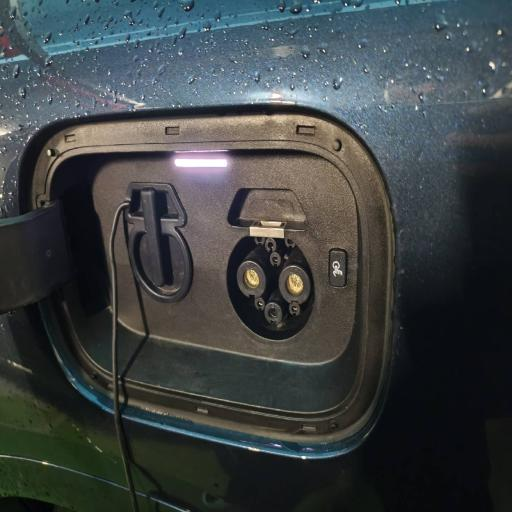DC_hole: (278, 263, 312, 306), (235, 259, 267, 299)
PE: (264, 300, 284, 327)
charging_port: (224, 232, 317, 346)
